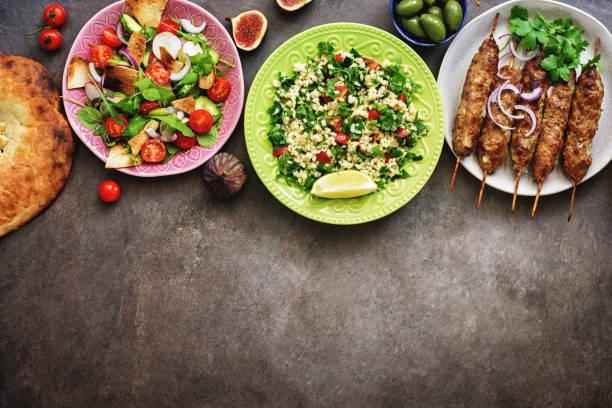Braised Crucian Carp: (240, 19, 436, 225), (436, 2, 611, 201), (60, 0, 239, 178)
